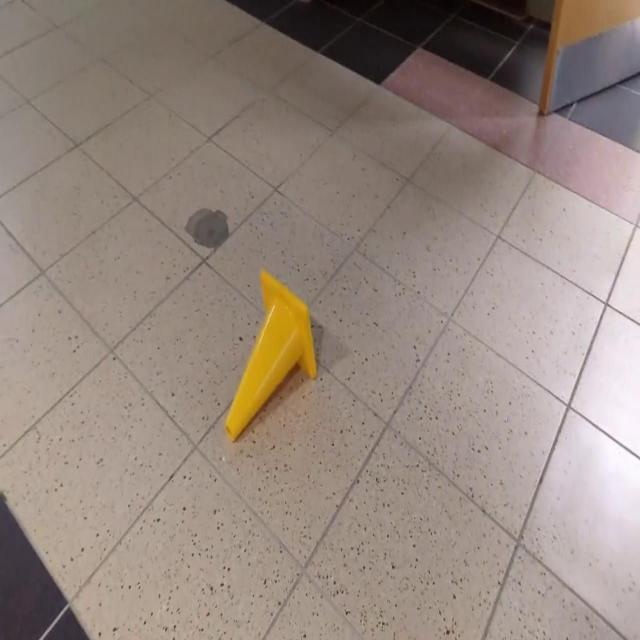frc_cone: (218, 244, 318, 444)
